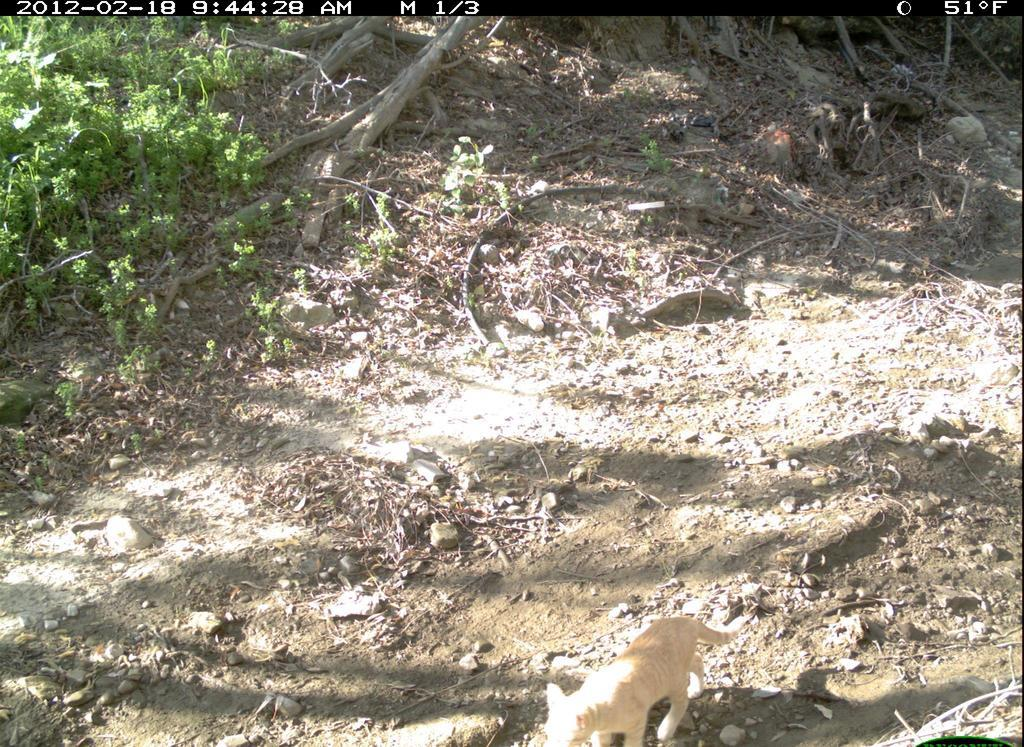cat: (545, 611, 752, 747)
